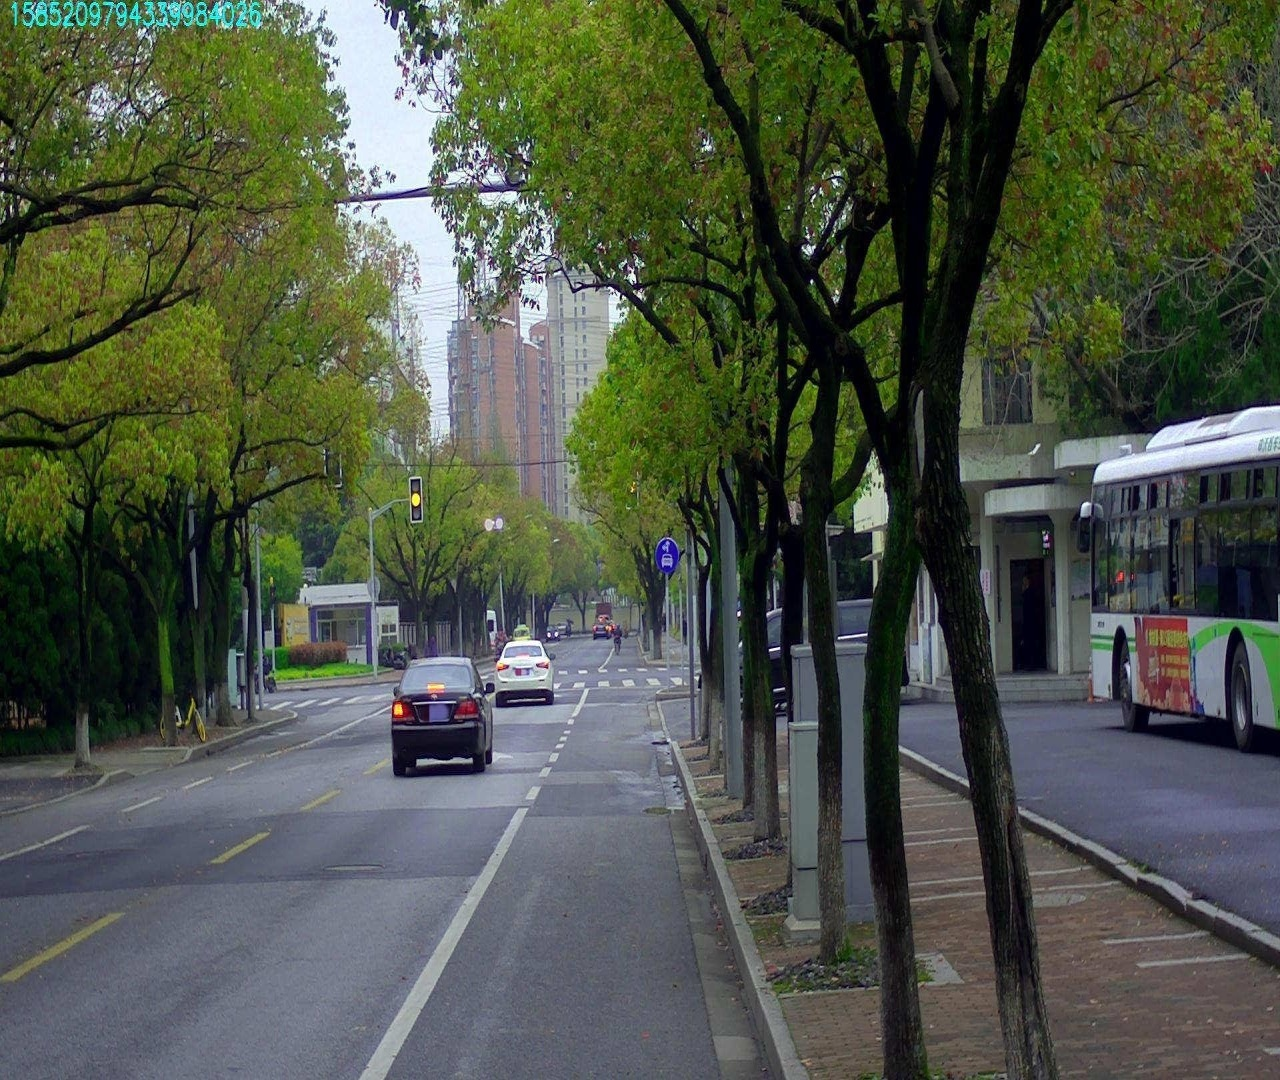yellow: (410, 478, 422, 522)
